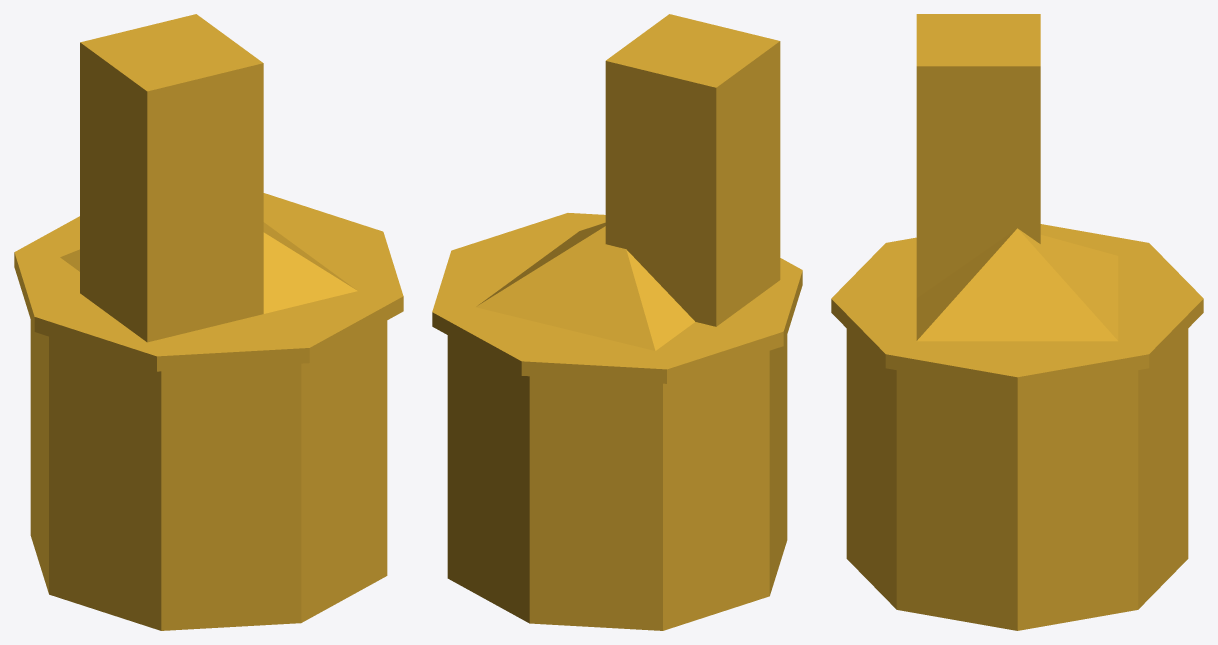
Rendered from brewery.obj.
The picture shows the model from 3 angles, left to right: view 1: azimuth 30°, elevation 25°; view 2: azimuth 150°, elevation 25°; view 3: azimuth 270°, elevation 25°; orthographic projection. The views are drawn at different scales.
Size of the model in its own units: 0.48 by 0.7 by 0.48.
